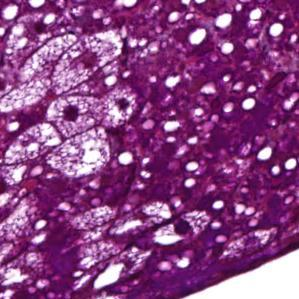ballooning: (16, 31, 123, 96), (45, 127, 112, 178), (2, 120, 65, 167), (45, 93, 104, 140)
